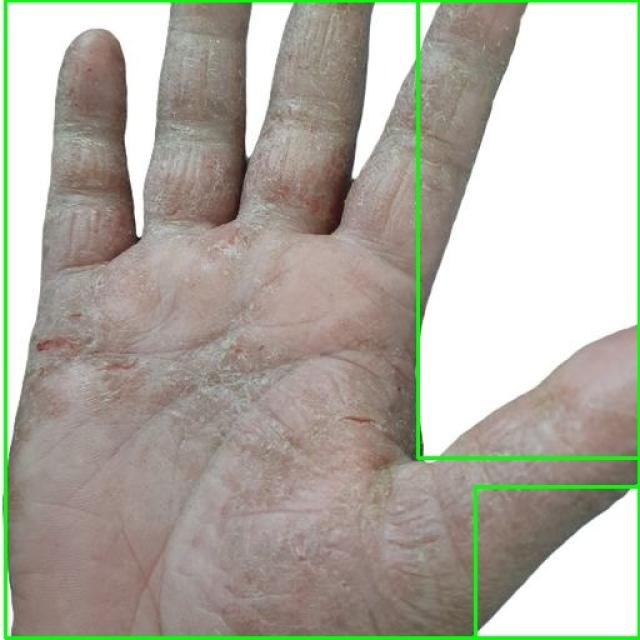Contact Dermatitis: (5, 0, 639, 639), (418, 0, 639, 458), (475, 486, 639, 639)
